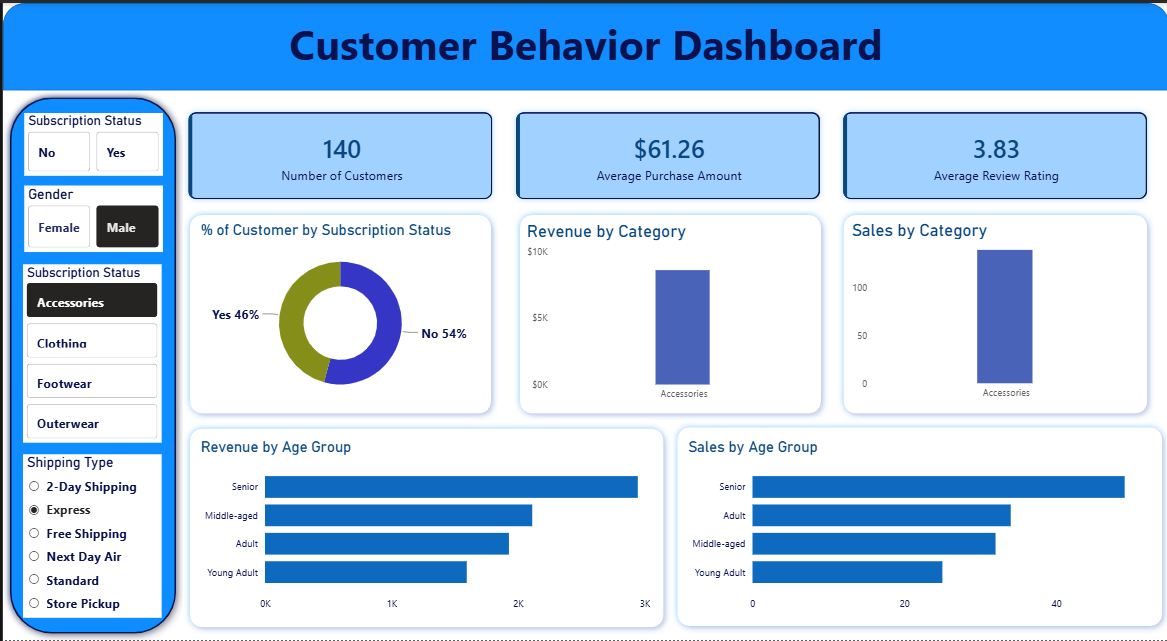

The page's visual inventory and layout, read from the dashboard file:
{"tool":"powerbi","page":{"name":"Page 1","canvas":[1500,820],"ordinal":0},"visuals":[{"type":"cardVisual","fields":{"Data":["public customer.Number of Customers","public customer.Average Purchase Amount","public customer.Average Review Rating"]},"box":[210.7,112.6,1289.7,168.8],"z":0},{"type":"shape","box":[0,0,1500.3,112.6],"z":1000},{"type":"textbox","box":[0,11.3,1500.3,101.3],"z":2000},{"type":"shape","box":[231.6,263.7,405.2,273.4],"z":3000},{"type":"donutChart","title":"% of Customer by Subscription Status","fields":{"Category":["public customer.subscription_status"],"Y":["CountNonNull(public customer.customer_id)"]},"box":[249.3,281.4,369.9,239.6],"z":4000},{"type":"shape","box":[656.1,263.7,405.2,273.4],"z":5000},{"type":"shape","box":[1072.6,263.7,408.4,273.4],"z":6000},{"type":"clusteredColumnChart","title":"Revenue by Category","fields":{"Y":["Sum(public customer.purchase_amount)"],"Category":["public customer.category"]},"box":[669,281.4,377.9,239.6],"z":7000},{"type":"clusteredColumnChart","title":"Sales by Category","fields":{"Category":["public customer.category"],"Y":["CountNonNull(public customer.customer_id)"]},"box":[1087.1,279.8,377.9,239.6],"z":8000},{"type":"shape","box":[0,112.6,231.6,707.5],"z":9000},{"type":"advancedSlicerVisual","title":"Subscription Status","fields":{"Values":["public customer.subscription_status"]},"box":[27.3,141.5,178.5,80.4],"z":10000},{"type":"advancedSlicerVisual","title":"Gender","fields":{"Values":["public customer.gender"]},"box":[27.3,234.8,178.5,85.2],"z":11000},{"type":"advancedSlicerVisual","title":"Subscription Status","fields":{"Values":["public customer.category"]},"box":[25.7,336.1,178.5,230],"z":12000},{"type":"listSlicer","title":"Shipping Type","fields":{"Values":["public customer.shipping_type"]},"box":[25.7,580.5,178.5,210.7],"z":13000},{"type":"clusteredBarChart","title":"Revenue by Age Group","fields":{"Category":["public customer.age_groups"],"Y":["Sum(public customer.purchase_amount)"]},"box":[249.3,558,588.6,231.6],"z":14000},{"type":"shape","box":[231.6,538.7,627.1,273.4],"z":15000},{"type":"shape","box":[858.7,537.1,641.6,273.4],"z":15001},{"type":"clusteredBarChart","title":"Sales by Age Group","fields":{"Category":["public customer.age_groups"],"Y":["CountNonNull(public customer.customer_id)"]},"box":[876.4,559.6,588.6,231.6],"z":15002},{"type":"clusteredBarChart","title":"Revenue by Age Group","fields":{"Category":["public customer.age_groups"],"Y":["Sum(public customer.purchase_amount)"]},"box":[249.3,559.6,588.6,231.6],"z":15003}]}

Visuals, with their boxes in screenshot pixels (x1, y1, x2, y2), scaled from the page's 1500x820 canvas onto the 1167x641 screenshot:
cardVisual - public customer.Number of Customers x public customer.Average Purchase Amount: x1=164, y1=88, x2=1166, y2=220
shape: x1=0, y1=0, x2=1166, y2=88
textbox: x1=0, y1=9, x2=1166, y2=88
shape: x1=180, y1=206, x2=495, y2=420
"% of Customer by Subscription Status" donutChart: x1=194, y1=220, x2=482, y2=407
shape: x1=510, y1=206, x2=826, y2=420
shape: x1=834, y1=206, x2=1152, y2=420
"Revenue by Category" clusteredColumnChart: x1=520, y1=220, x2=814, y2=407
"Sales by Category" clusteredColumnChart: x1=846, y1=219, x2=1140, y2=406
shape: x1=0, y1=88, x2=180, y2=640
"Subscription Status" advancedSlicerVisual: x1=21, y1=111, x2=160, y2=173
"Gender" advancedSlicerVisual: x1=21, y1=184, x2=160, y2=250
"Subscription Status" advancedSlicerVisual: x1=20, y1=263, x2=159, y2=443
"Shipping Type" listSlicer: x1=20, y1=454, x2=159, y2=618
"Revenue by Age Group" clusteredBarChart: x1=194, y1=436, x2=652, y2=617
shape: x1=180, y1=421, x2=668, y2=635
shape: x1=668, y1=420, x2=1166, y2=634
"Sales by Age Group" clusteredBarChart: x1=682, y1=437, x2=1140, y2=618
"Revenue by Age Group" clusteredBarChart: x1=194, y1=437, x2=652, y2=618
